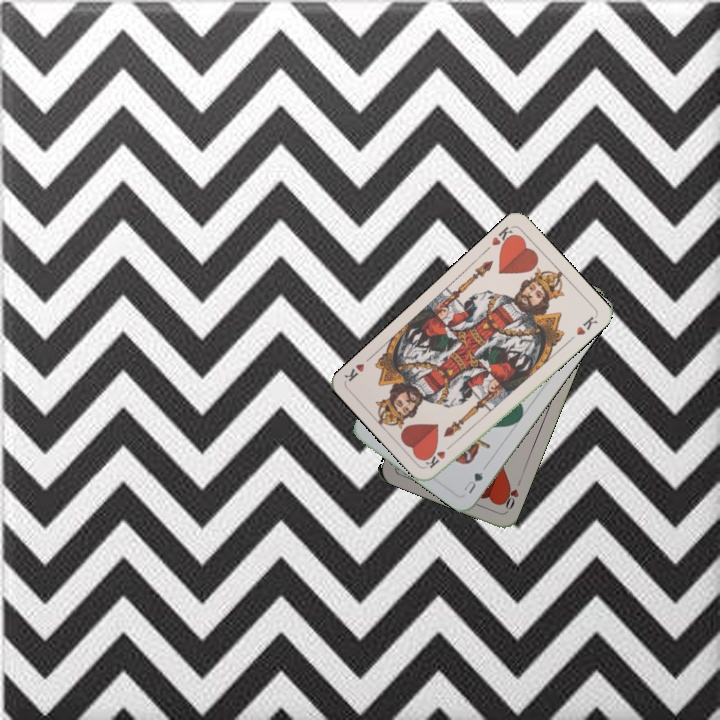GU: (458, 468, 486, 497)
HK: (422, 438, 457, 471), (488, 222, 519, 253)
HO: (497, 475, 524, 514)
